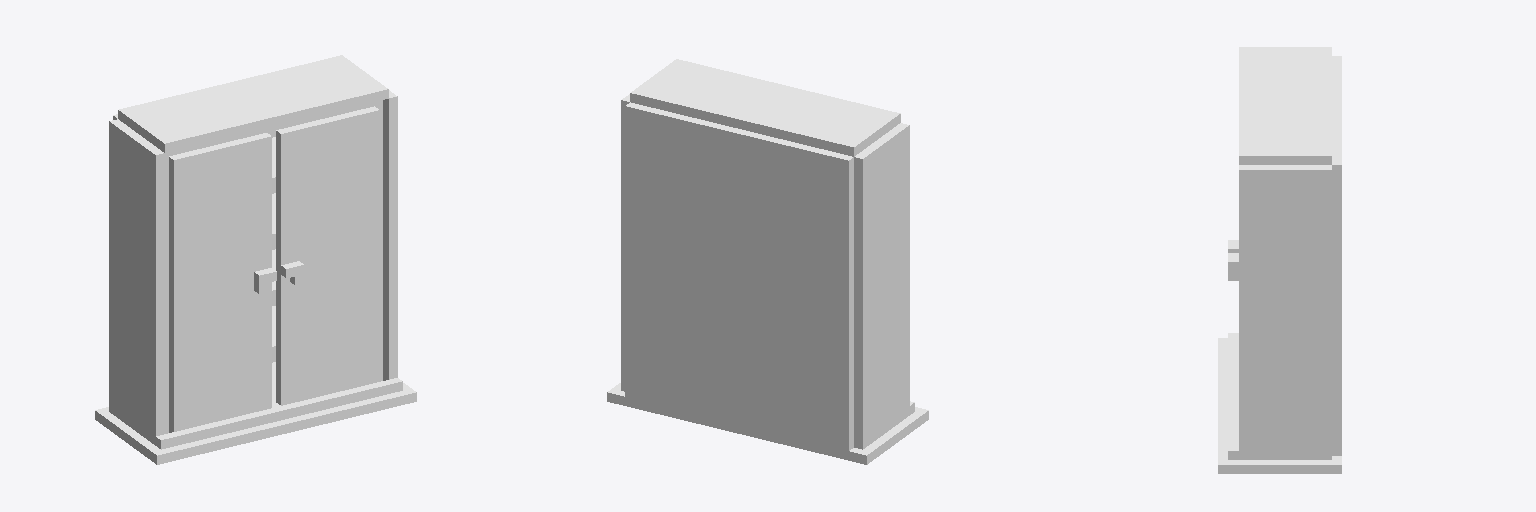
The model's file is Decor-67.obj.
The picture shows the model from 3 angles: view 1: azimuth 30°, elevation 25°; view 2: azimuth 150°, elevation 25°; view 3: azimuth 270°, elevation 25°; orthographic projection.
Parts seen in each view (by area): view 1: object 1; view 2: object 1; view 3: object 1.
Part boxes in pixels (x1,y1,x2,y2): object 1: (95, 55, 416, 464); object 1: (607, 59, 928, 464); object 1: (1218, 47, 1341, 473).
Size of the model in its own units: 2.9 by 3.3 by 1.2.